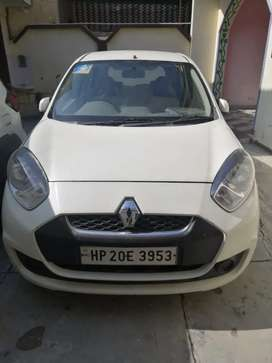HP20E3953: (79, 245, 176, 265)
